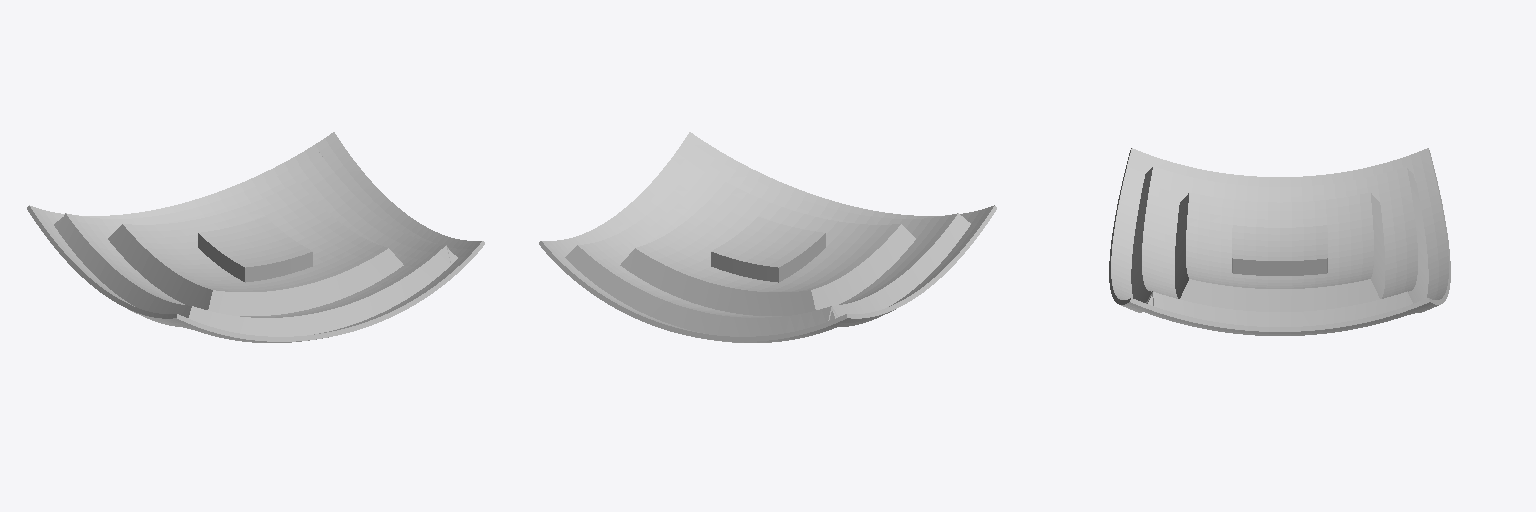
File: roof.OBJ
3 views of the same model, side by side, from view 1: azimuth 30°, elevation 25°; view 2: azimuth 150°, elevation 25°; view 3: azimuth 270°, elevation 25° (orthographic).
Visible parts, largest first — view 1: ZBrush_defualt_group; view 2: ZBrush_defualt_group; view 3: ZBrush_defualt_group.
Boxes of the visible parts, <box> form: ZBrush_defualt_group: <box>27,132,484,342</box>; ZBrush_defualt_group: <box>539,132,996,342</box>; ZBrush_defualt_group: <box>1109,148,1450,335</box>.
Bounding box in the file's own units: 12.83 × 2.67 × 12.29.